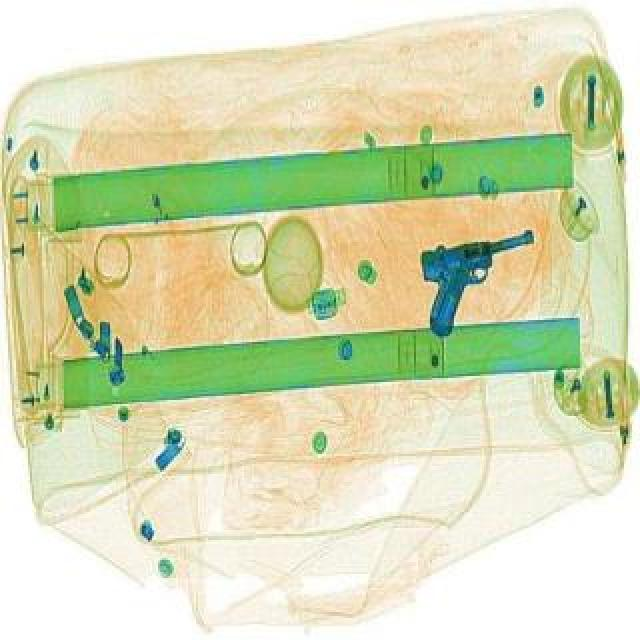gun: (412, 228, 546, 336)
